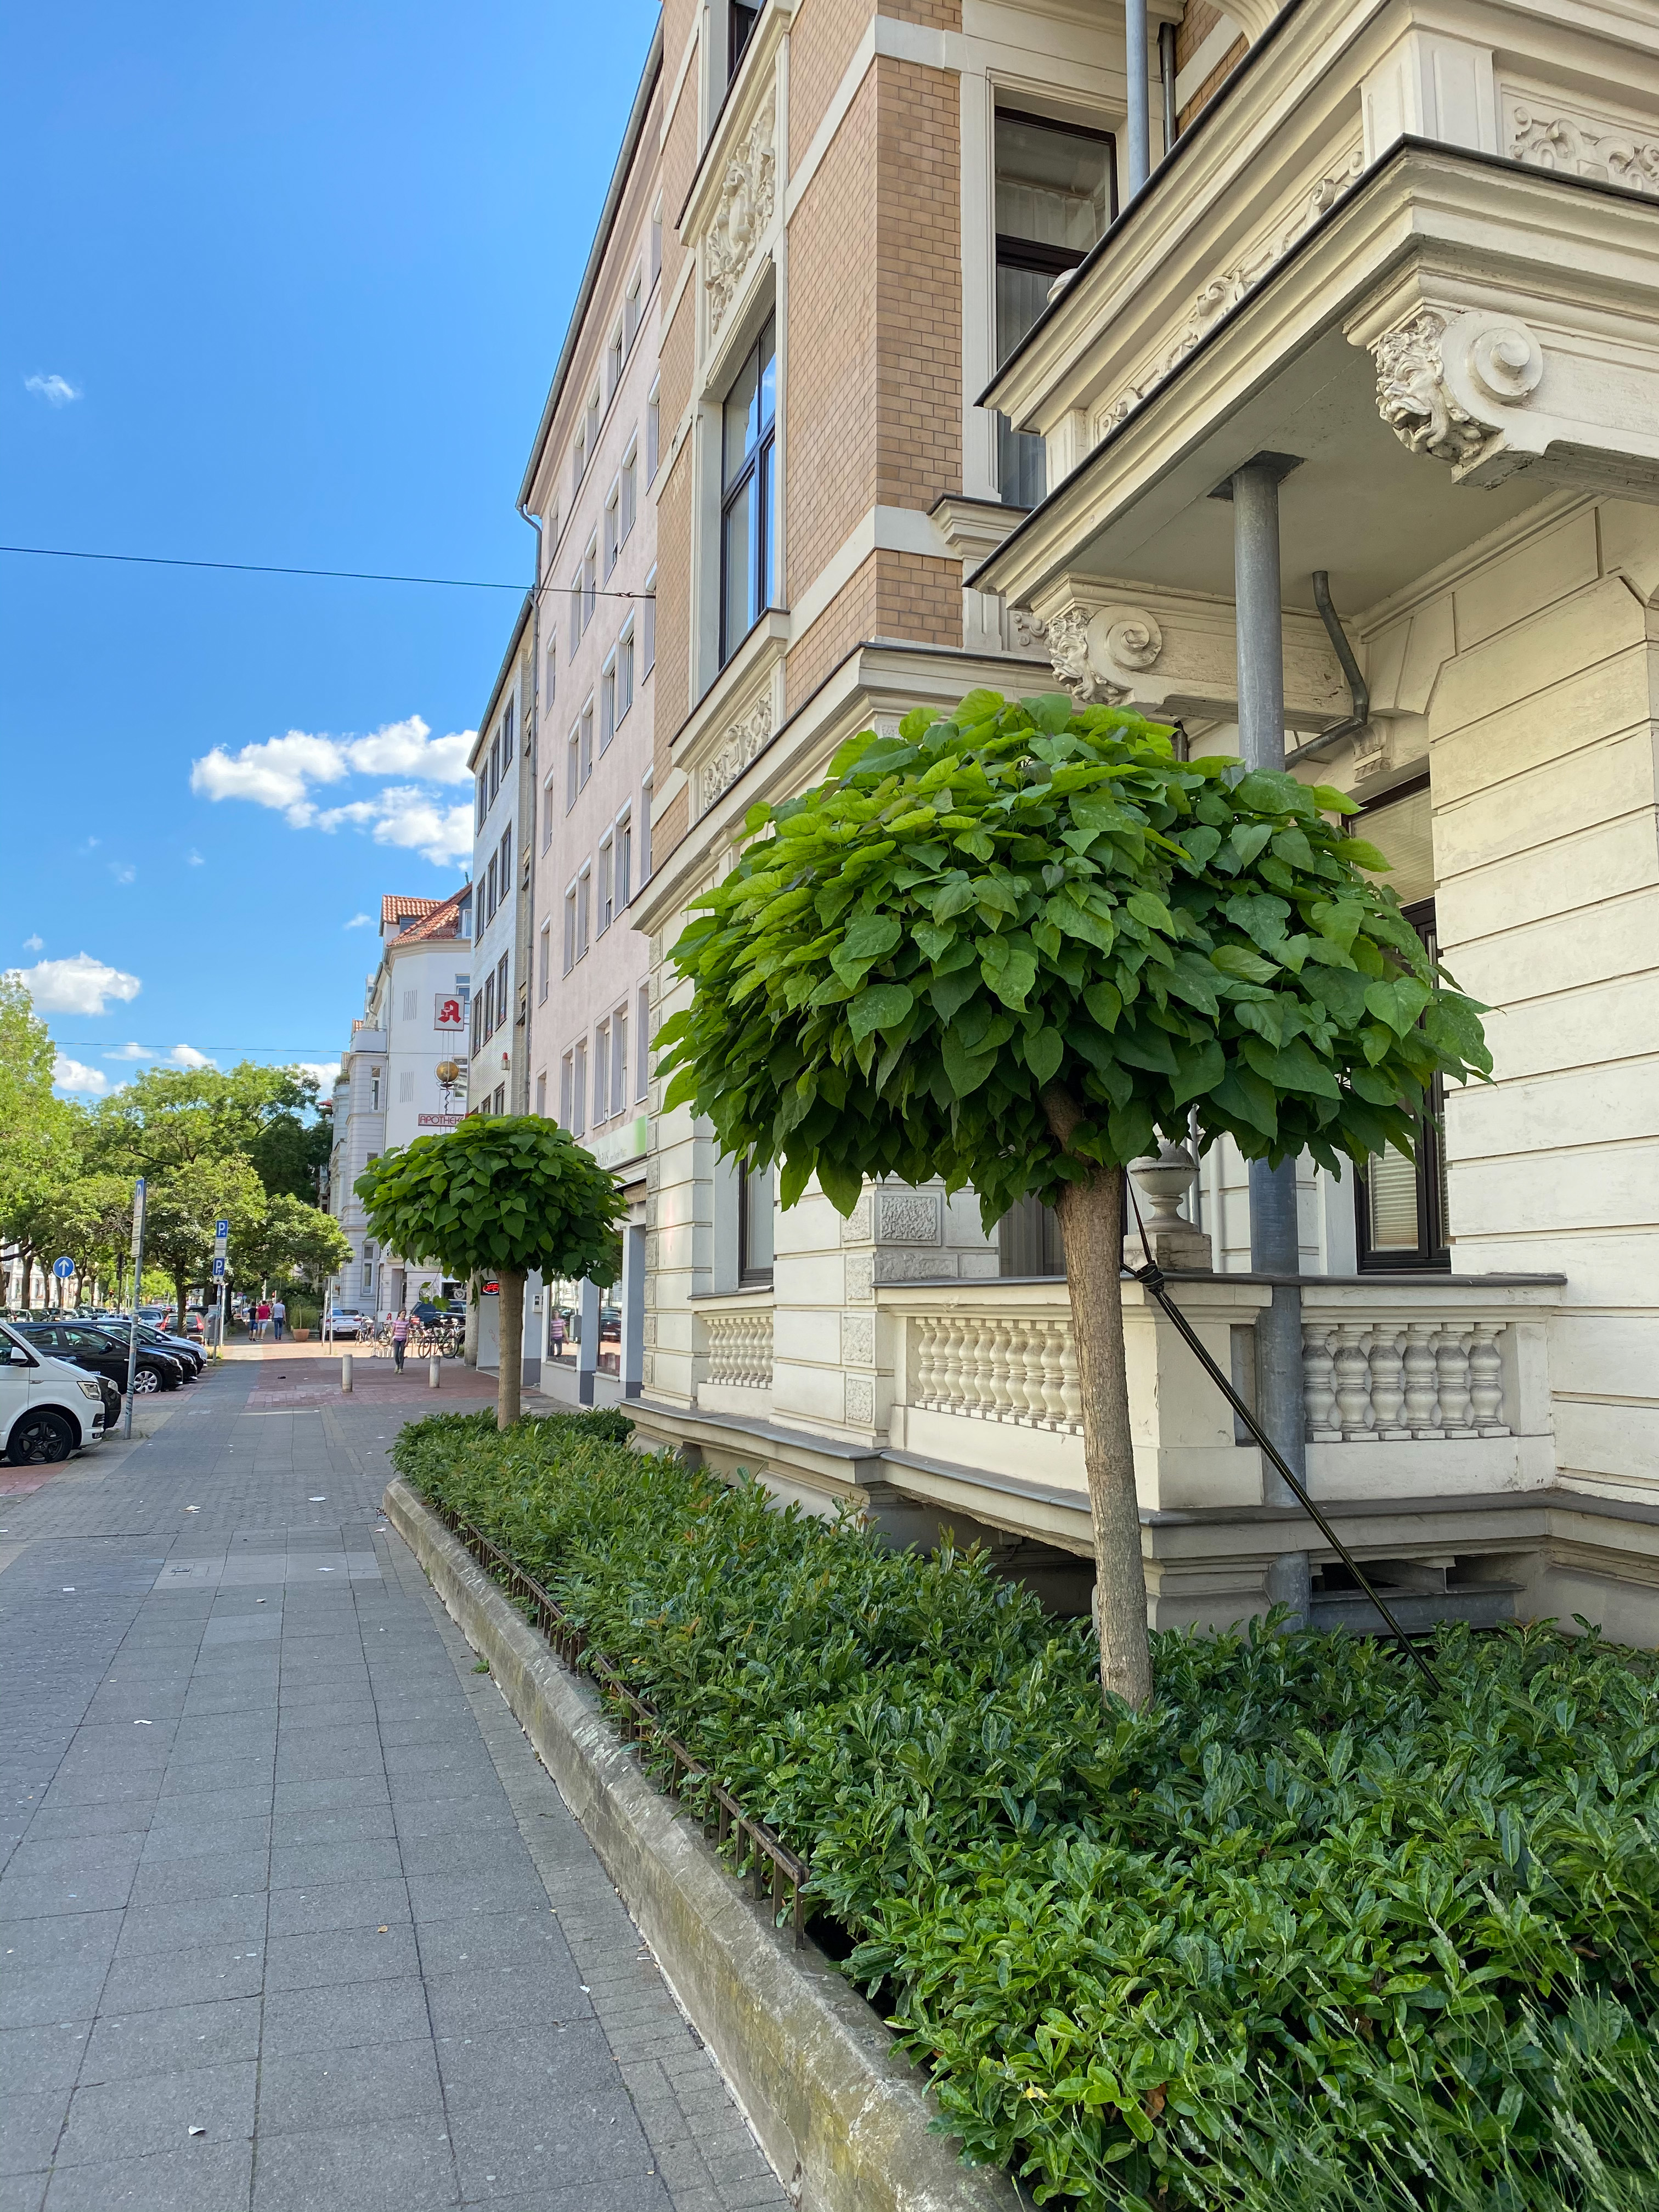tree: (648, 688, 1511, 1702), (352, 1111, 633, 1435), (82, 1059, 333, 1305), (0, 972, 84, 1308), (122, 1151, 268, 1339), (223, 1191, 356, 1325), (19, 1231, 64, 1310), (37, 1244, 71, 1308), (73, 1245, 94, 1308), (54, 1278, 63, 1306)
